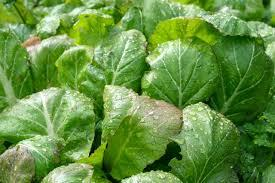Bok-Choy-Diseased: (98, 81, 178, 164), (1, 146, 40, 183)
